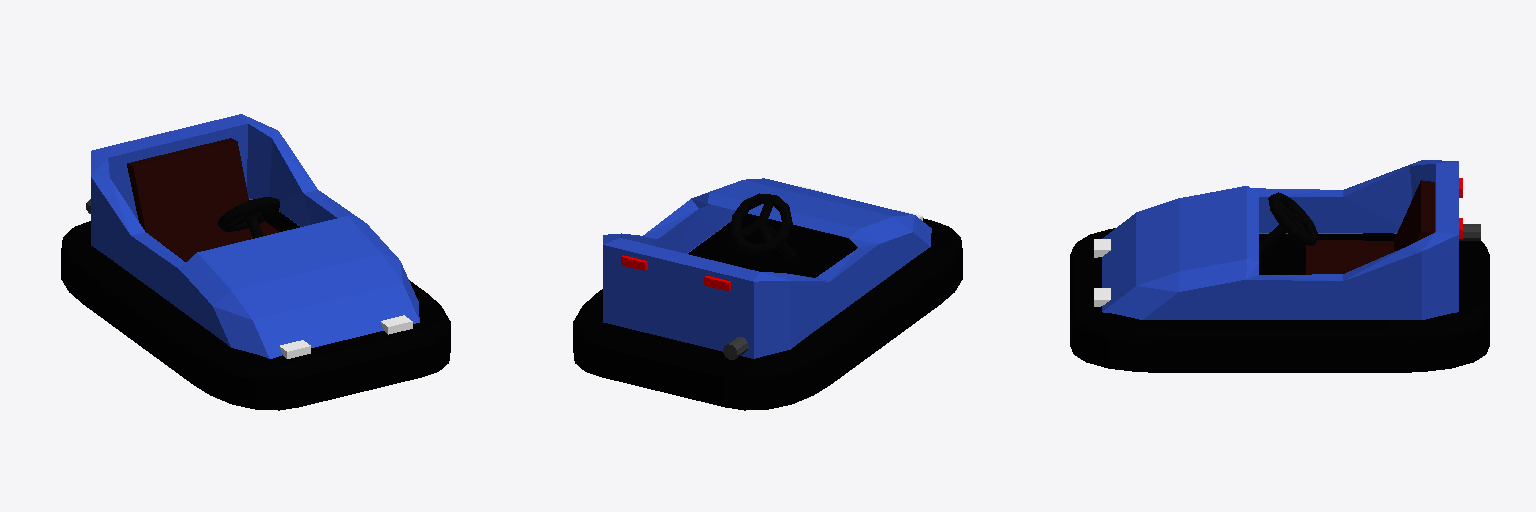
File: bumperCar_2.obj
The picture shows the model from 3 angles: view 1: azimuth 30°, elevation 25°; view 2: azimuth 150°, elevation 25°; view 3: azimuth 270°, elevation 25°; orthographic projection.
Parts seen in each view (by area): view 1: body_Cube.005, bottom_Cube.004, chair_Cube.006, steeringWheel_Torus; view 2: body_Cube.005, bottom_Cube.004, steeringWheel_Torus; view 3: body_Cube.005, bottom_Cube.004, chair_Cube.006, steeringWheel_Torus.
Part boxes in pixels (left/top/right/bottom): body_Cube.005: left=91, top=114, right=419, bottom=358; bottom_Cube.004: left=61, top=200, right=450, bottom=410; chair_Cube.006: left=127, top=138, right=278, bottom=261; steeringWheel_Torus: left=218, top=197, right=279, bottom=231; body_Cube.005: left=603, top=178, right=931, bottom=358; bottom_Cube.004: left=573, top=213, right=962, bottom=410; steeringWheel_Torus: left=730, top=193, right=792, bottom=254; body_Cube.005: left=1102, top=160, right=1458, bottom=319; bottom_Cube.004: left=1070, top=228, right=1489, bottom=372; chair_Cube.006: left=1306, top=180, right=1434, bottom=274; steeringWheel_Torus: left=1268, top=192, right=1317, bottom=245.
Bounding box in the file's own units: 0.975 × 0.4686 × 1.5.